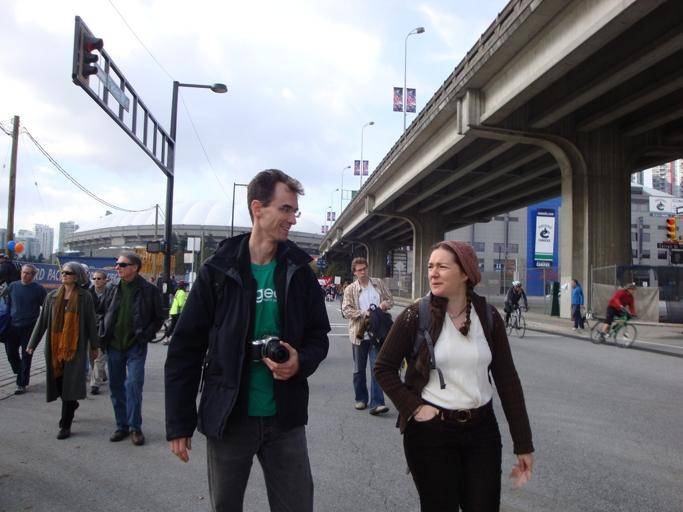non-vehicle: (588, 307, 643, 348), (143, 312, 171, 349), (500, 303, 528, 339)
